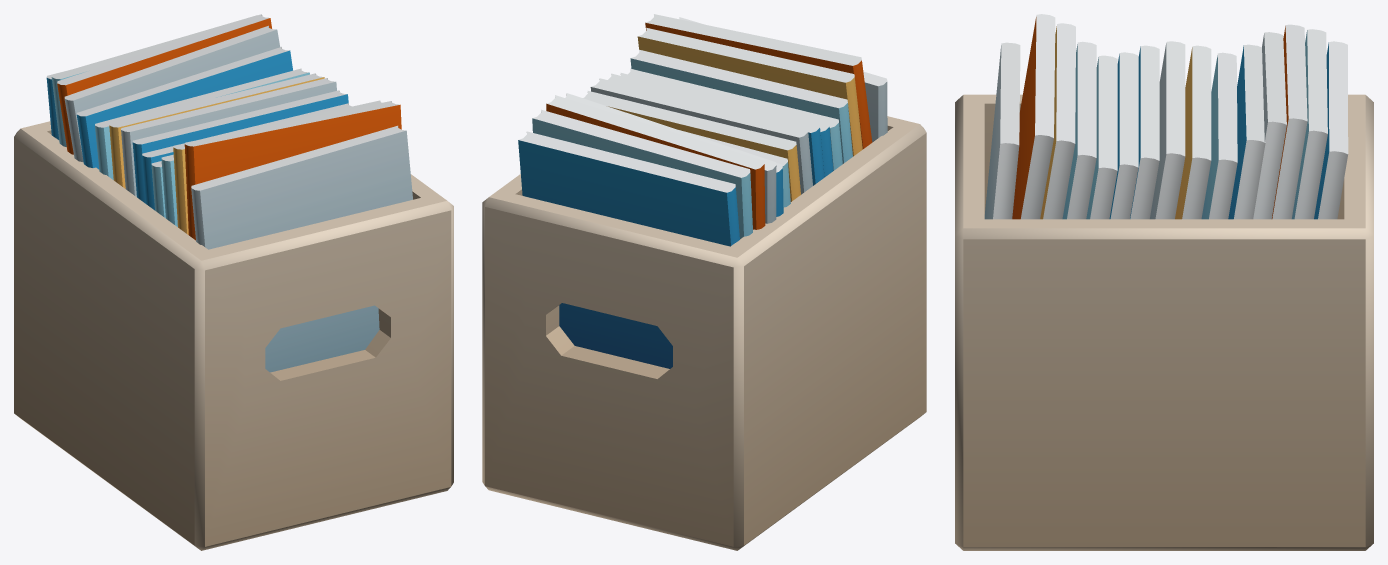
The model's file is comicbox_filled.glb.
3 views of the same model, side by side, from view 1: azimuth 30°, elevation 25°; view 2: azimuth 150°, elevation 25°; view 3: azimuth 270°, elevation 25° (orthographic). The views are drawn at different scales.
Parts seen in each view (by area): view 1: comicbox_filled; view 2: comicbox_filled; view 3: comicbox_filled.
Boxes of the visible parts, x1,y1,x2,y2 form: comicbox_filled: (14,14,453,550); comicbox_filled: (482,14,926,550); comicbox_filled: (955,14,1373,550).
Bounding box in the file's own units: 0.6355 × 0.877 × 0.8.
1 material, 1 textured.
